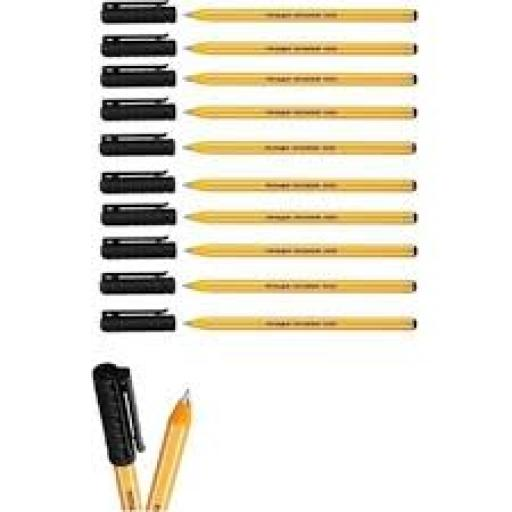tukenmez-kalem: (66, 0, 478, 362), (75, 367, 239, 510)
